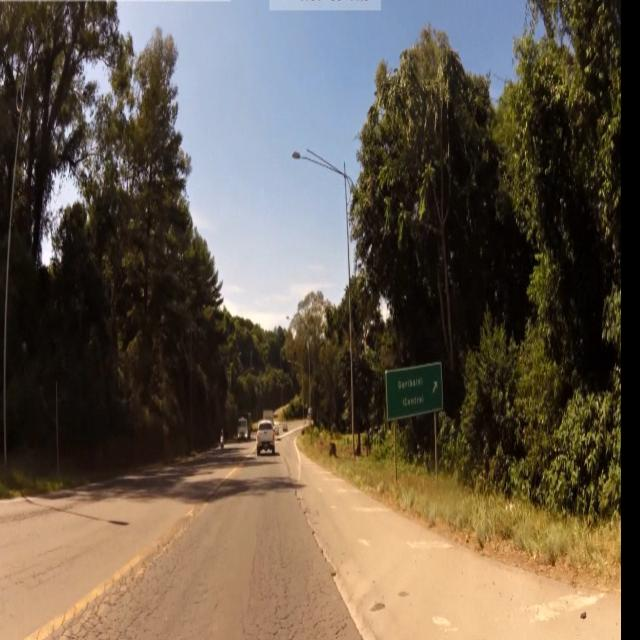I-4: (387, 366, 443, 418)
